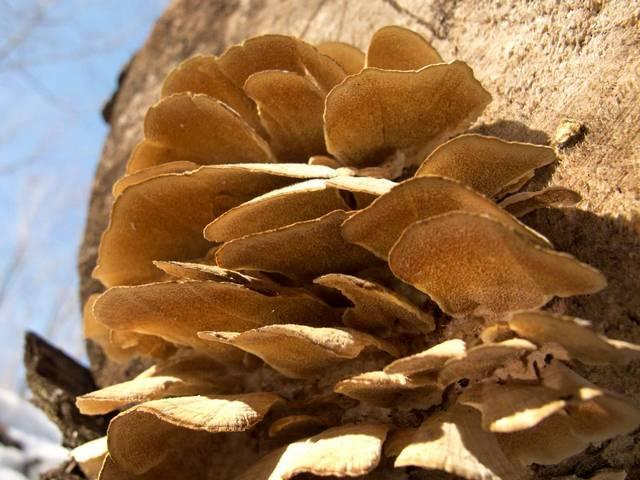poisonous_mushroom: (75, 24, 636, 478)
